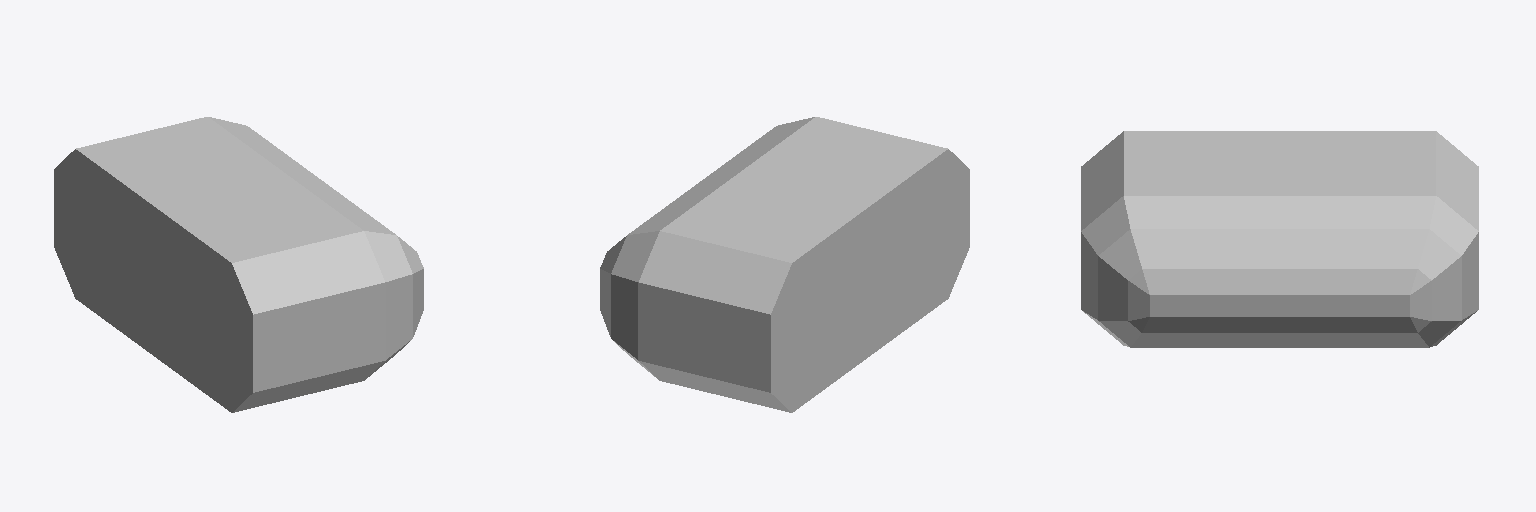
File: Spacestation_Propulsion_Thruster_Triple_Small_Housing_Front.obj
3 renders of one model, left to right at view 1: azimuth 30°, elevation 25°; view 2: azimuth 150°, elevation 25°; view 3: azimuth 270°, elevation 25°, orthographic.
Parts seen in each view (by area): view 1: object1; view 2: object1; view 3: object1.
Boxes of the visible parts, x1,y1,x2,y2 form: object1: [54, 117, 423, 412]; object1: [600, 117, 969, 412]; object1: [1081, 131, 1478, 347].
Bounding box in the file's own units: 1 × 0.7 × 1.68.